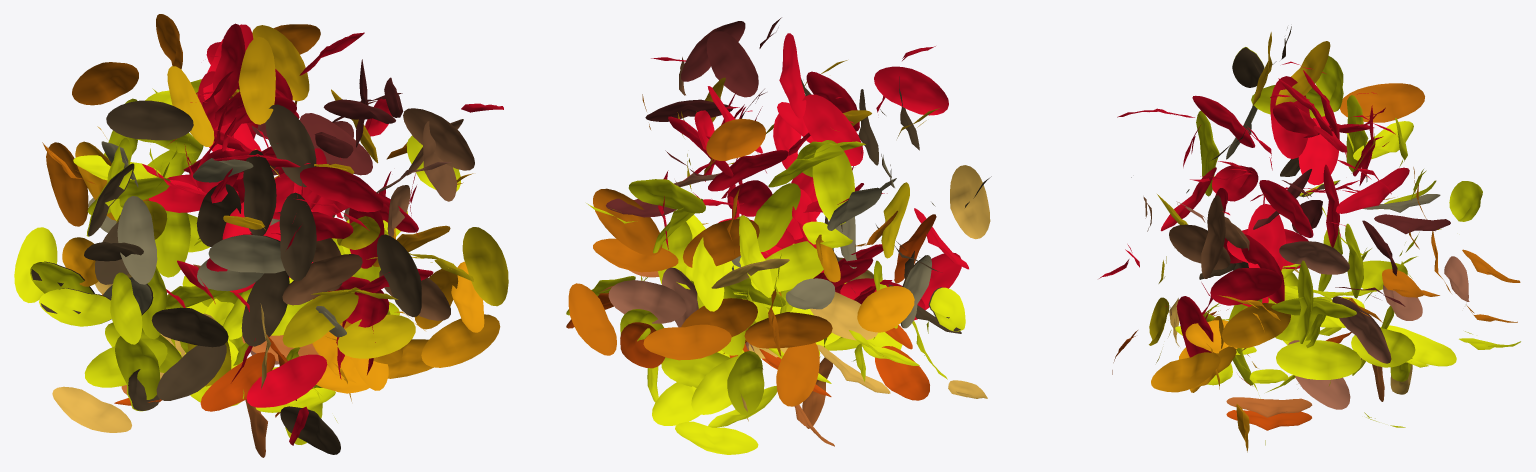
The model's file is Leaves.gltf.
3 renders of one model, left to right at view 1: azimuth 30°, elevation 25°; view 2: azimuth 150°, elevation 25°; view 3: azimuth 270°, elevation 25°, orthographic. The views are drawn at different scales.
Parts seen in each view (by area): view 1: pDisc49_ncl1_1, pDisc12, pDisc14_ncl1_1, pDisc11, pDisc68_ncl1_1, pDisc16_ncl1_1, pDisc97_ncl1_1, pDisc112, pDisc5, pDisc54_ncl1_1, pDisc82_ncl1_1, pDisc19 (+71 smaller); view 2: pDisc25, pDisc86, pDisc8, pDisc87, pDisc92, pDisc39, pDisc14, pDisc144, pDisc71, pDisc82, pDisc54, pDisc87_ncl1_1 (+56 smaller); view 3: pDisc5_ncl1_1, pDisc107_ncl1_1, pDisc7_ncl1_1, pDisc10_ncl1_1, pDisc12_ncl1_1, pDisc23_ncl1_1, pDisc141_ncl1_1, pDisc111_ncl1_1, pDisc18_ncl1_1, pDisc11_ncl1_1, pDisc111, pDisc27_ncl1_1 (+42 smaller).
Boxes of the visible parts, box(x1,y1,x2,y2) form: pDisc49_ncl1_1: box(106, 100, 193, 140); pDisc12: box(246, 354, 327, 407); pDisc14_ncl1_1: box(462, 227, 508, 306); pDisc11: box(279, 192, 316, 281); pDisc68_ncl1_1: box(238, 37, 275, 124); pDisc16_ncl1_1: box(421, 314, 500, 367); pDisc97_ncl1_1: box(117, 196, 157, 284); pDisc112: box(241, 270, 289, 346); pDisc5: box(337, 314, 415, 358); pDisc54_ncl1_1: box(265, 104, 316, 187); pDisc82_ncl1_1: box(156, 344, 226, 400); pDisc19: box(208, 235, 285, 273); pDisc25: box(874, 66, 948, 115); pDisc86: box(643, 324, 731, 360); pDisc8: box(593, 188, 662, 255); pDisc87: box(608, 280, 686, 323); pDisc92: box(744, 312, 832, 348); pDisc39: box(706, 31, 758, 97); pDisc14: box(950, 165, 990, 239); pDisc144: box(568, 283, 616, 355); pDisc71: box(812, 140, 854, 224); pDisc82: box(776, 343, 819, 406); pDisc54: box(802, 94, 863, 165); pDisc87_ncl1_1: box(857, 286, 914, 332); pDisc5_ncl1_1: box(1276, 340, 1361, 379); pDisc107_ncl1_1: box(1339, 83, 1424, 122); pDisc7_ncl1_1: box(1222, 303, 1290, 348); pDisc10_ncl1_1: box(1210, 268, 1282, 305); pDisc12_ncl1_1: box(1151, 352, 1220, 392); pDisc23_ncl1_1: box(1279, 241, 1349, 274); pDisc141_ncl1_1: box(1332, 296, 1391, 363); pDisc111_ncl1_1: box(1298, 116, 1338, 185); pDisc18_ncl1_1: box(1247, 204, 1285, 270); pDisc11_ncl1_1: box(1201, 195, 1225, 278); pDisc111: box(1336, 167, 1409, 213); pDisc27_ncl1_1: box(1259, 180, 1313, 237).
Bounding box in the file's own units: 0.108 × 0.1022 × 0.1079.
